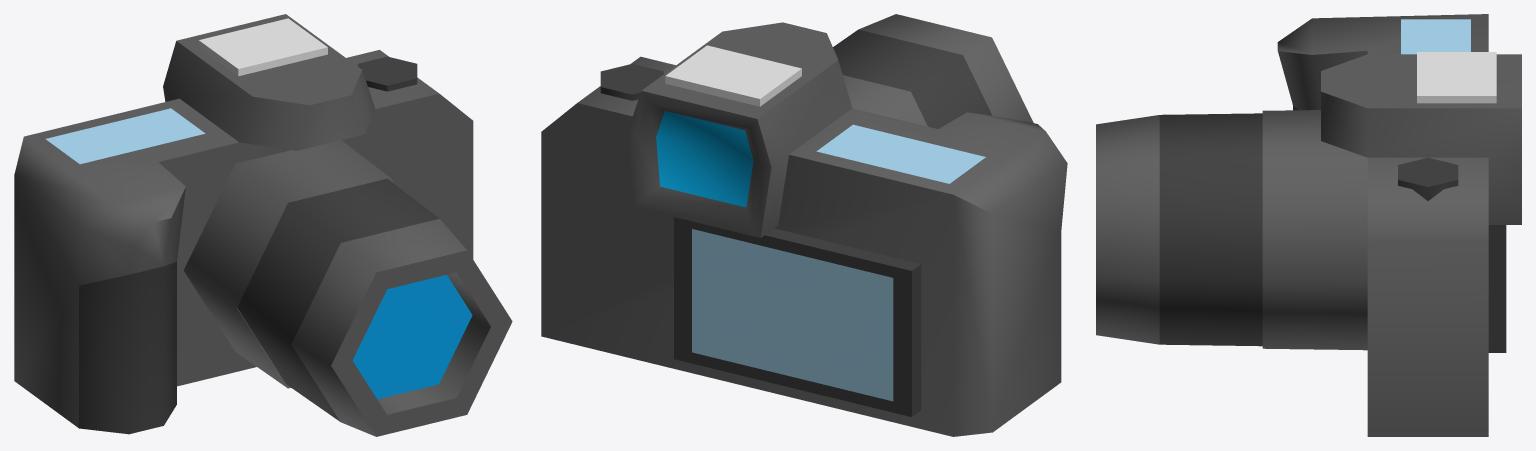
Rendered from camera_001.glb.
3 views of the same model, side by side, from view 1: azimuth 30°, elevation 25°; view 2: azimuth 150°, elevation 25°; view 3: azimuth 270°, elevation 25° (orthographic). The views are drawn at different scales.
Parts seen in each view (by area): view 1: camera_001; view 2: camera_001; view 3: camera_001.
Boxes of the visible parts, <box> form: camera_001: <box>14,14,512,436</box>; camera_001: <box>541,14,1067,436</box>; camera_001: <box>1096,14,1521,436</box>.
Size of the model in its own units: 0.158 by 0.1019 by 0.1398.
Materials: 1 (1 with a texture image).
